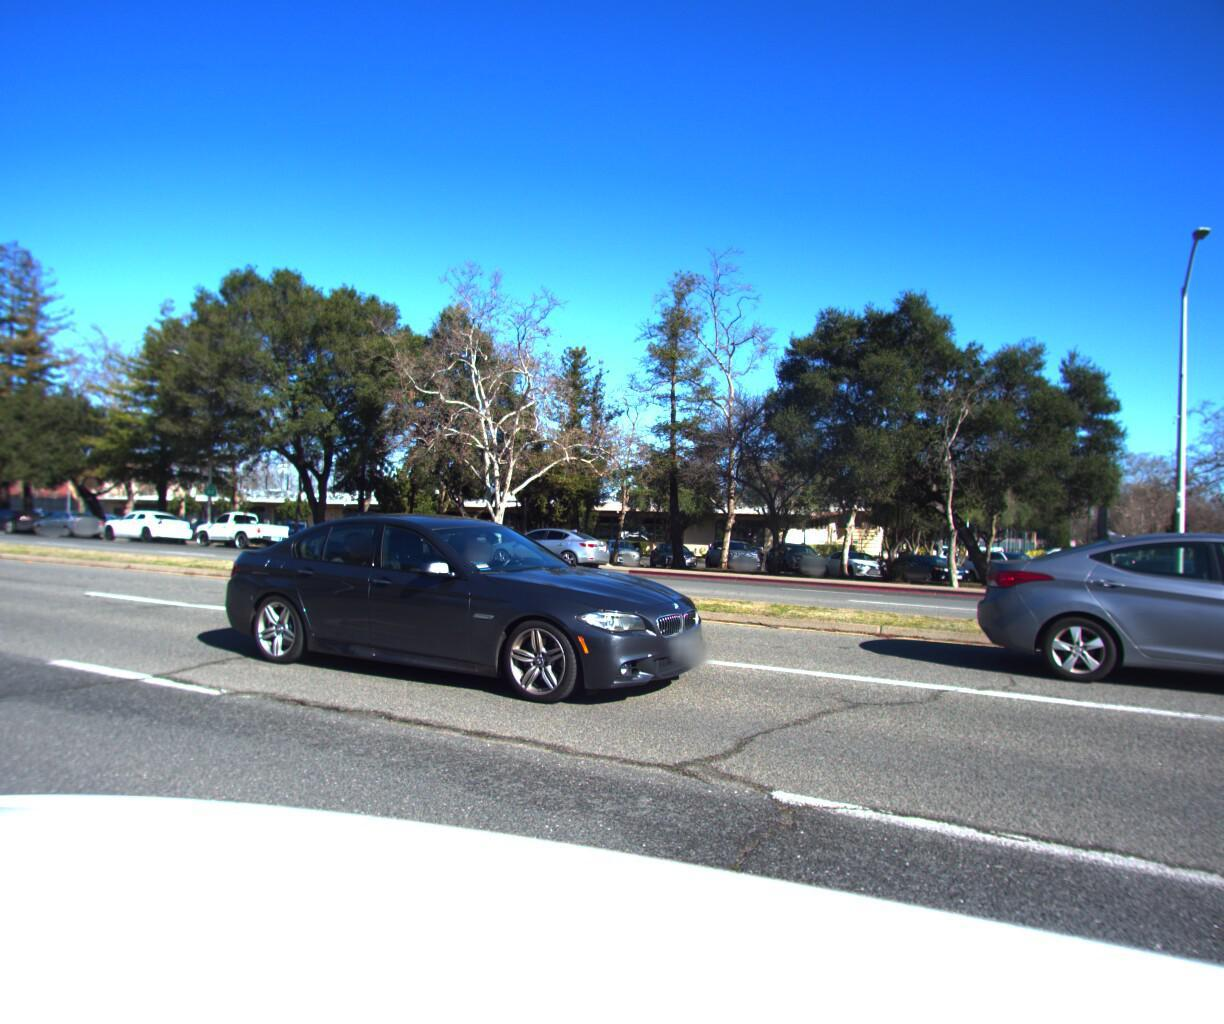car: (197, 496, 730, 726), (970, 515, 1224, 744), (474, 518, 620, 571), (299, 504, 441, 559), (186, 504, 295, 548), (96, 501, 199, 540), (28, 503, 112, 535), (0, 502, 56, 531)
